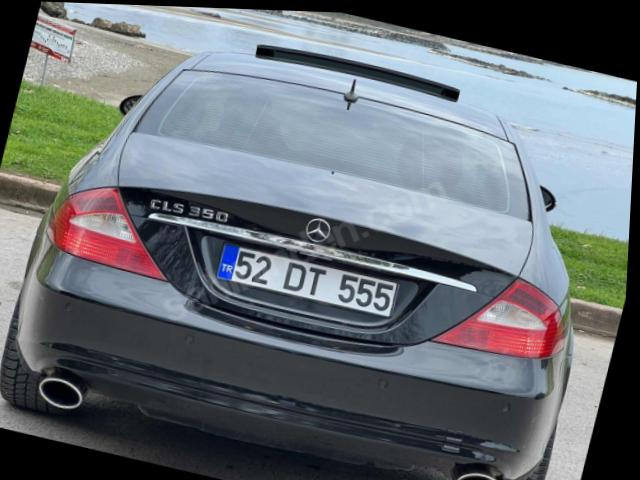plaka: (217, 243, 397, 317)
